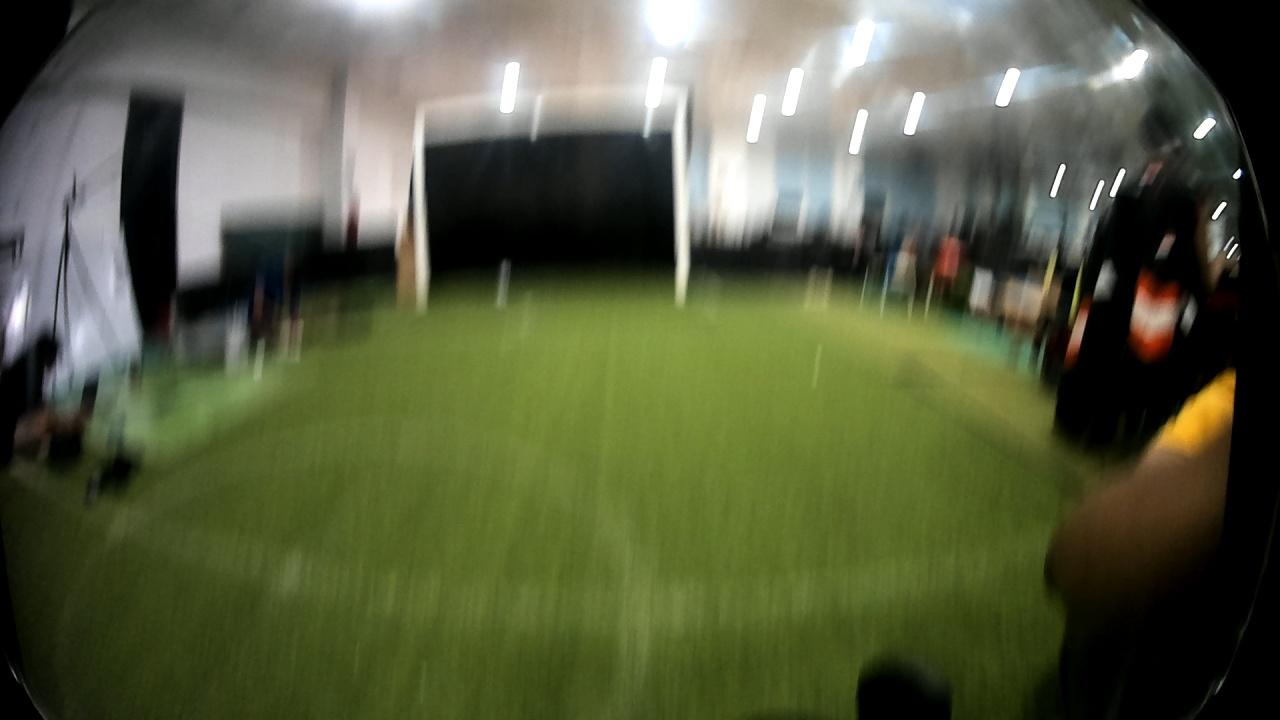ball: (491, 257, 519, 309)
